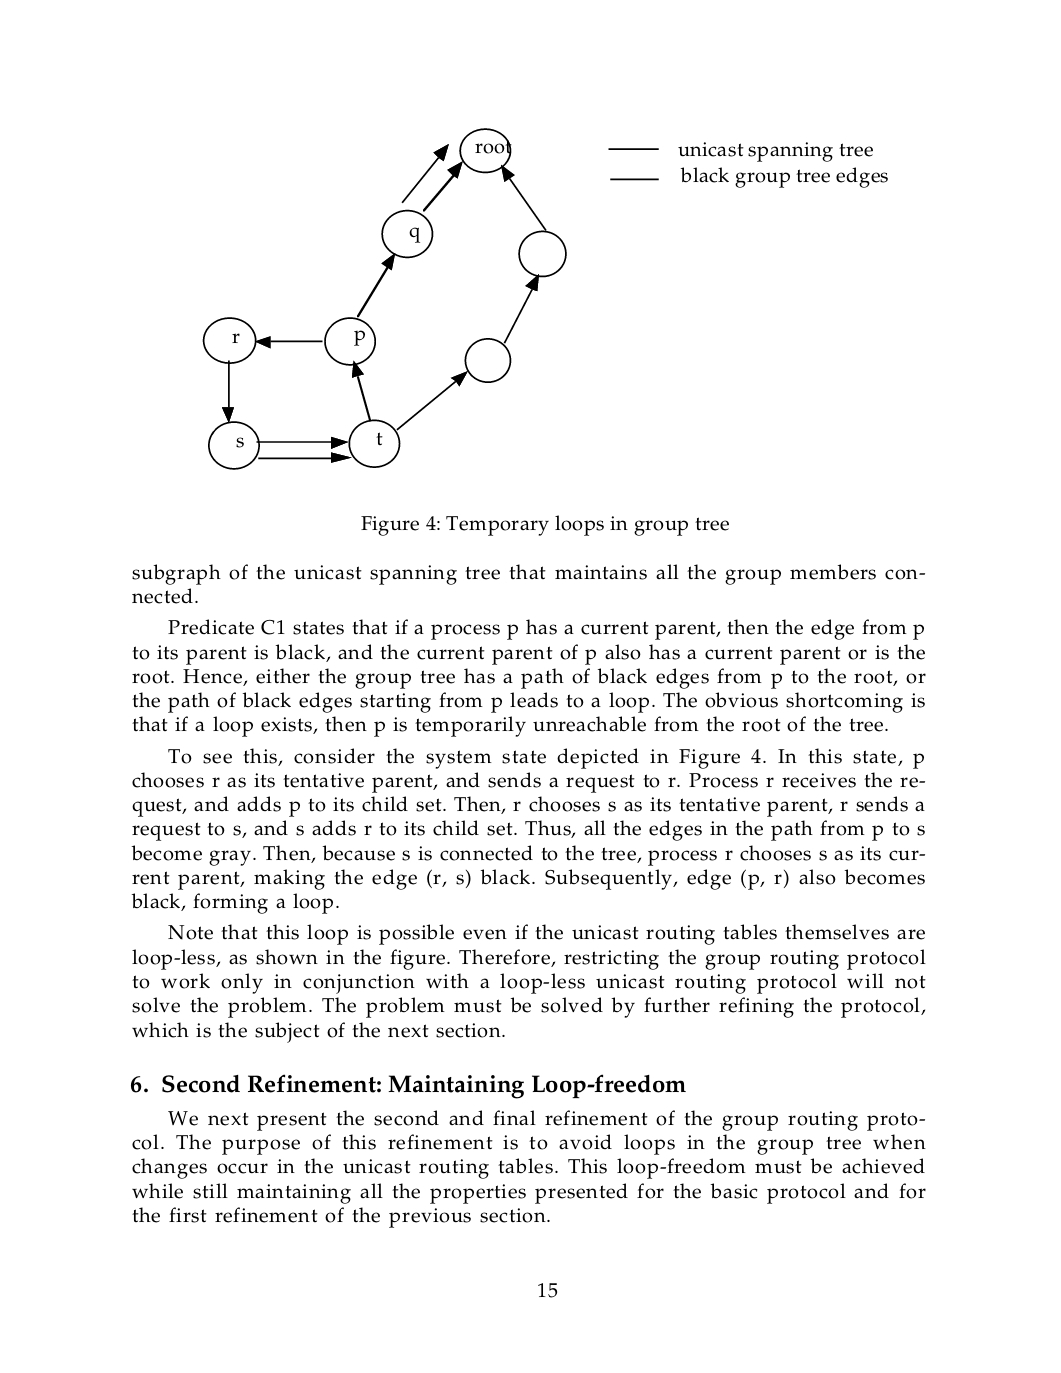figure: (202, 128, 566, 469)
